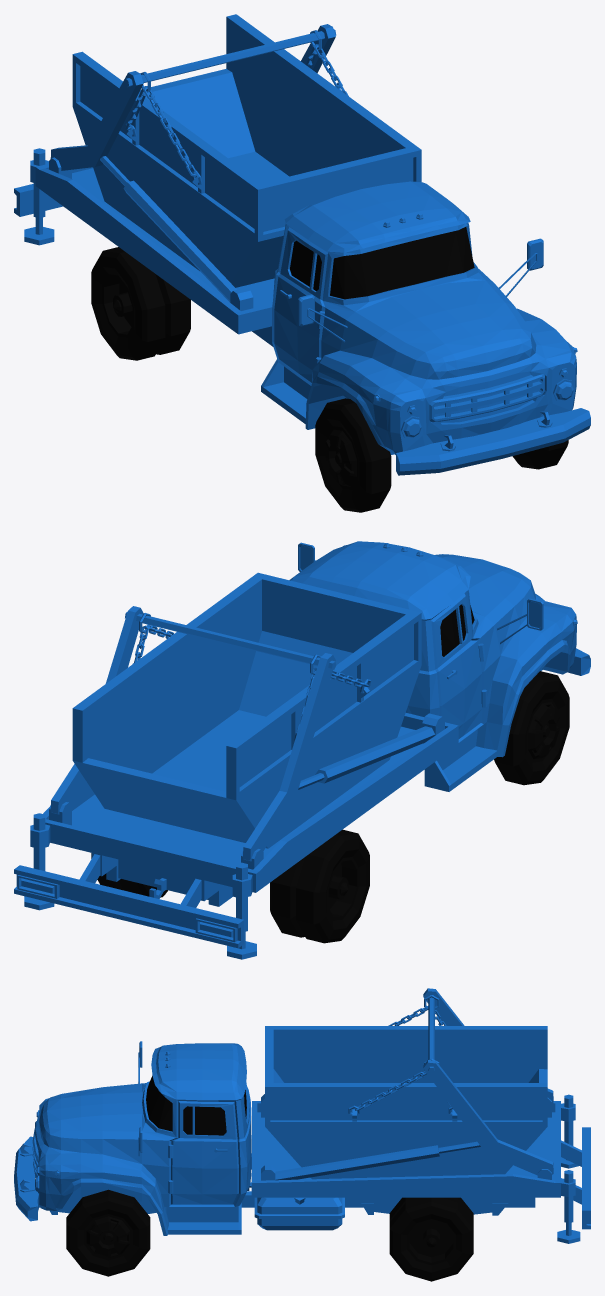
File: SM_construction_waste_truck.fbx
3 views of the same model, one above another, from view 1: azimuth 30°, elevation 25°; view 2: azimuth 150°, elevation 25°; view 3: azimuth 270°, elevation 25° (orthographic). The views are drawn at different scales.
Parts seen in each view (by area): view 1: Symmetry_2, Cylinder_3, Cylinder_2, Cylinder; view 2: Symmetry_2, Cylinder_3, Cylinder_2; view 3: Symmetry_2, Cylinder_3, Cylinder.
Part boxes in pixels (x1,y1,x2,y2): Symmetry_2: (14,14,590,475); Cylinder_3: (91,247,190,360); Cylinder_2: (315,398,391,512); Cylinder: (512,440,568,469); Symmetry_2: (14,541,590,959); Cylinder_3: (91,829,369,943); Cylinder_2: (494,671,569,785); Symmetry_2: (14,988,590,1243); Cylinder_3: (389,1197,473,1281); Cylinder: (66,1189,150,1276).
Size of the model in its own units: 274 by 302 by 734.
